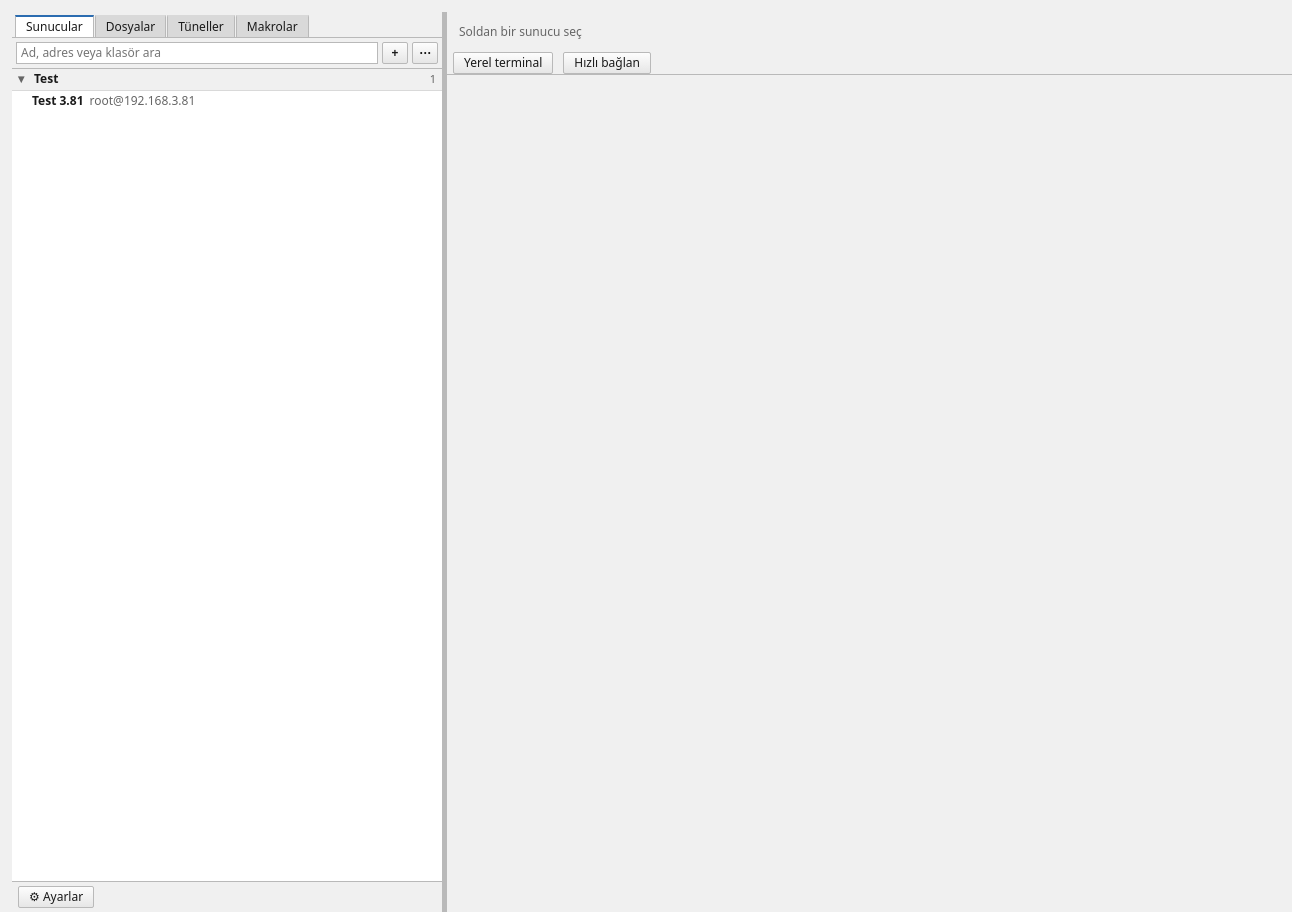
exporting tells the user where the file was saved and cancelling says nothing
Expected: the text "Test 3.81" is shown, left=32, top=93, right=84, bottom=109
Click the button named "Diğer işlemler".
click(425, 53)  # box left=412, top=42, right=438, bottom=64
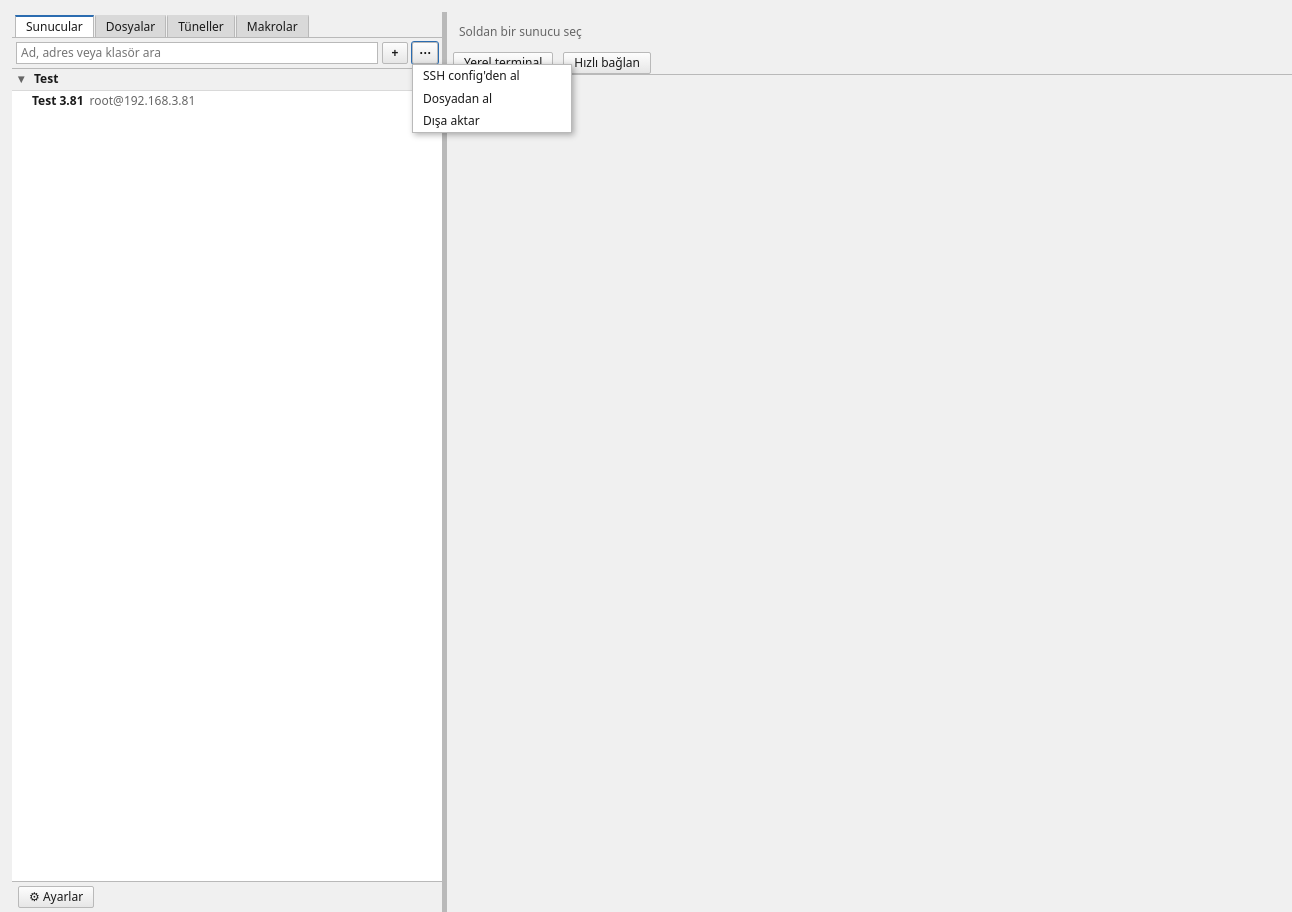
Click the menu item "Dışa aktar".
click(492, 121)  # box left=413, top=110, right=571, bottom=132
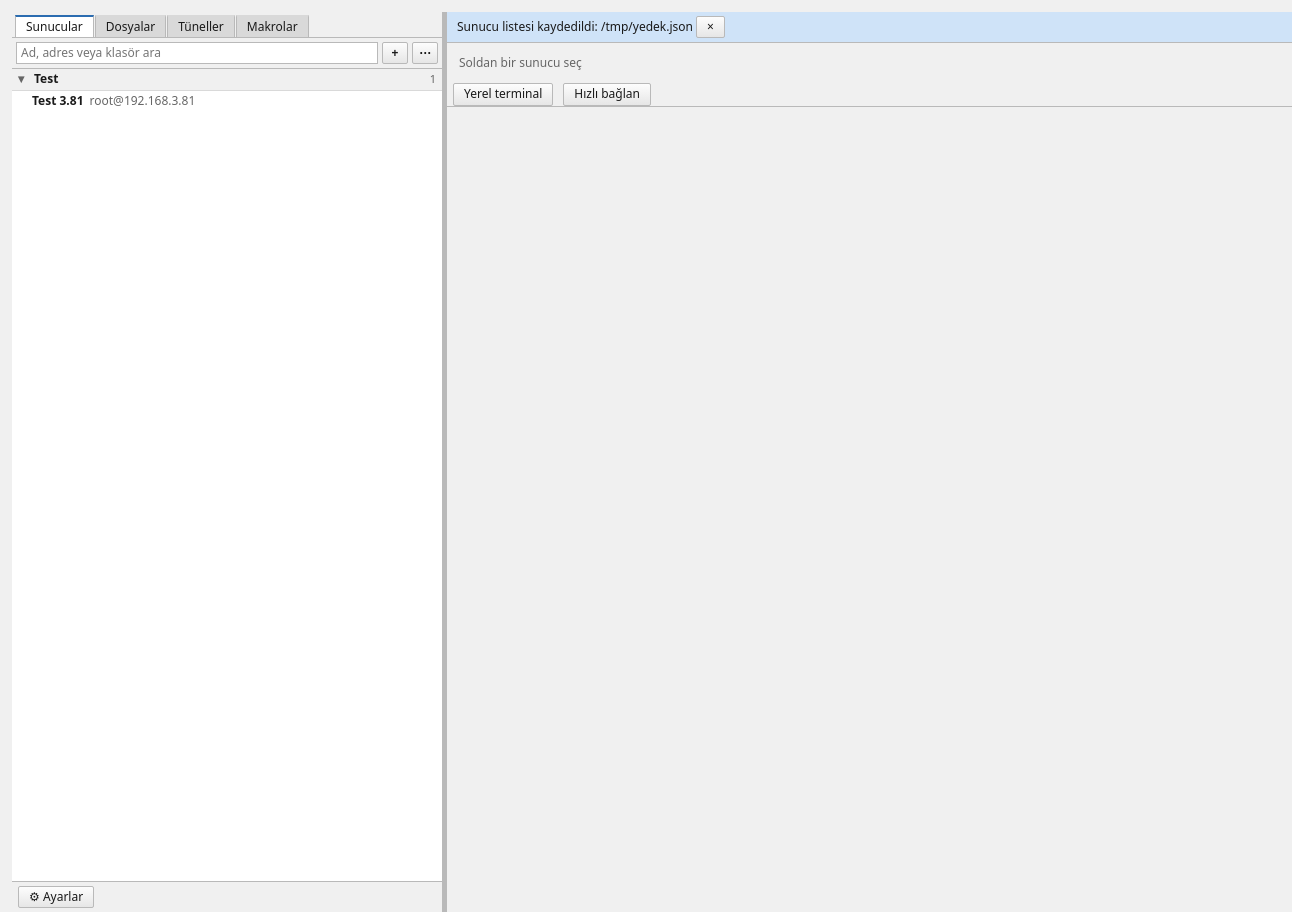
Expected: the text "Sunucu listesi kaydedildi: /tmp/yedek.json" is shown, left=457, top=18, right=693, bottom=35
